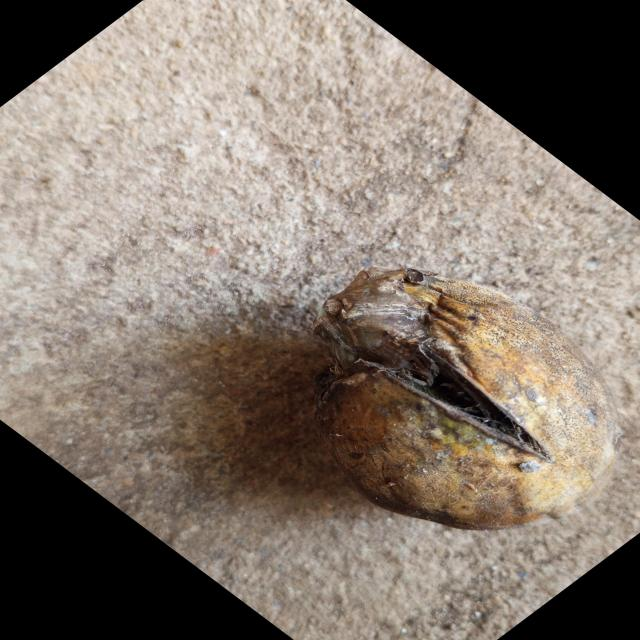damaged: (313, 267, 624, 539)
